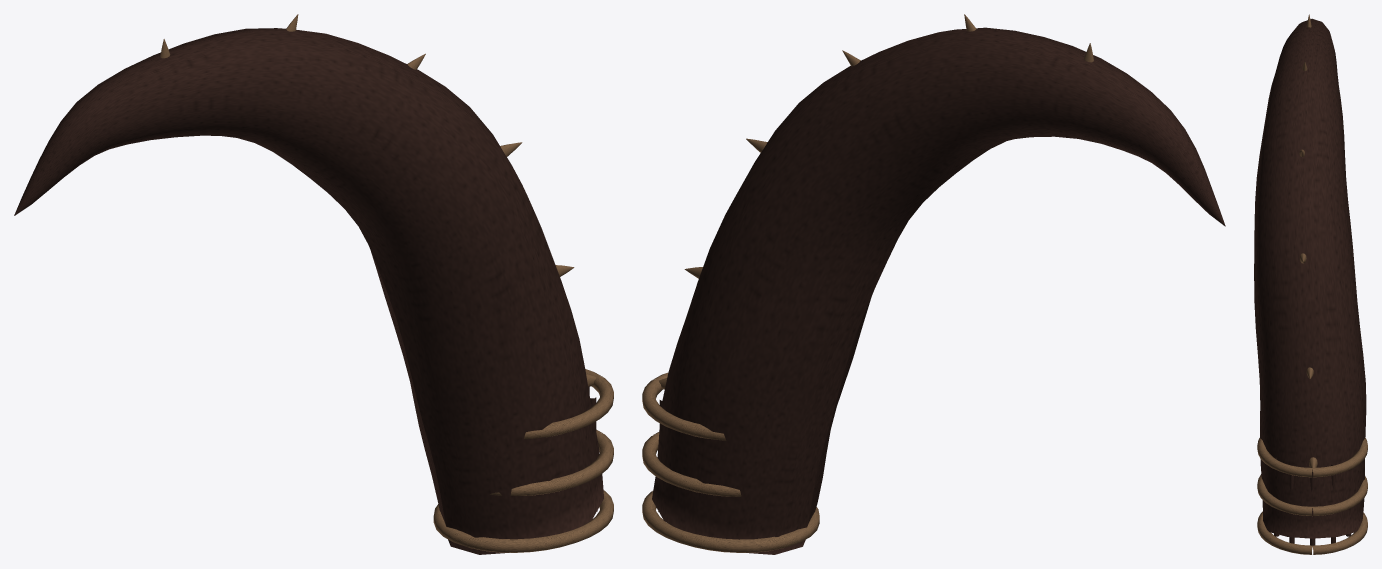
Rendered from beetle_mandible.glb.
3 renders of one model, left to right at view 1: azimuth 30°, elevation 25°; view 2: azimuth 150°, elevation 25°; view 3: azimuth 270°, elevation 25°, orthographic. The views are drawn at different scales.
Visible parts, largest first — view 1: Black chestnut beetle jaw, Worn brown keratin rims; view 2: Black chestnut beetle jaw, Worn brown keratin rims; view 3: Black chestnut beetle jaw, Worn brown keratin rims.
Part boxes in pixels (x1=…): Black chestnut beetle jaw: x1=14, y1=28, x2=603, y2=554; Worn brown keratin rims: x1=160, y1=14, x2=613, y2=552; Black chestnut beetle jaw: x1=652, y1=27, x2=1225, y2=554; Worn brown keratin rims: x1=642, y1=14, x2=1093, y2=552; Black chestnut beetle jaw: x1=1254, y1=18, x2=1366, y2=547; Worn brown keratin rims: x1=1257, y1=14, x2=1367, y2=554.
Size of the model in its own units: 0.3595 by 0.3399 by 0.0877.
2 materials, 2 textured.
